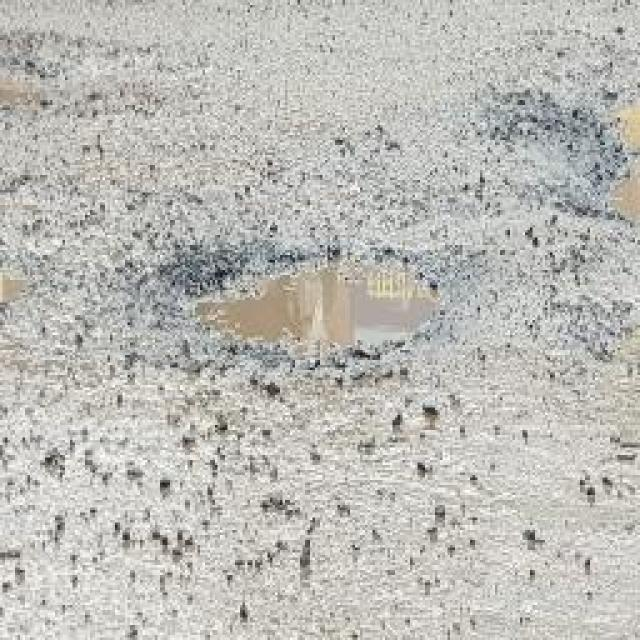waterlogging: (185, 245, 462, 364)
